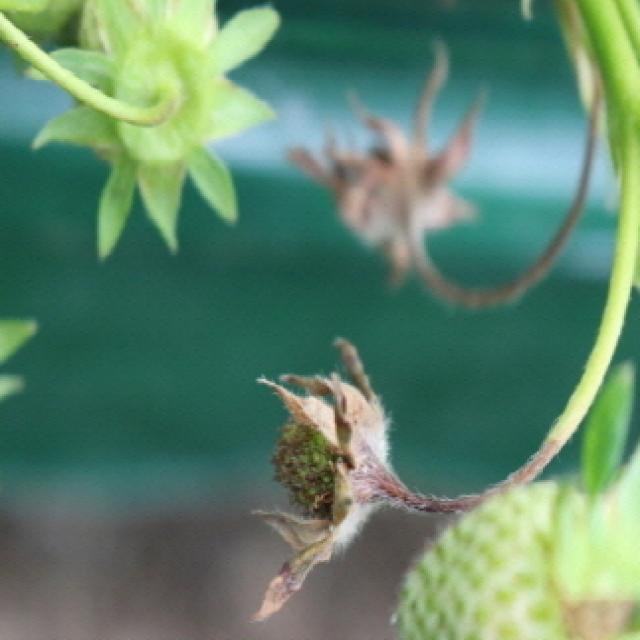Gray Mold: (242, 337, 469, 625)
